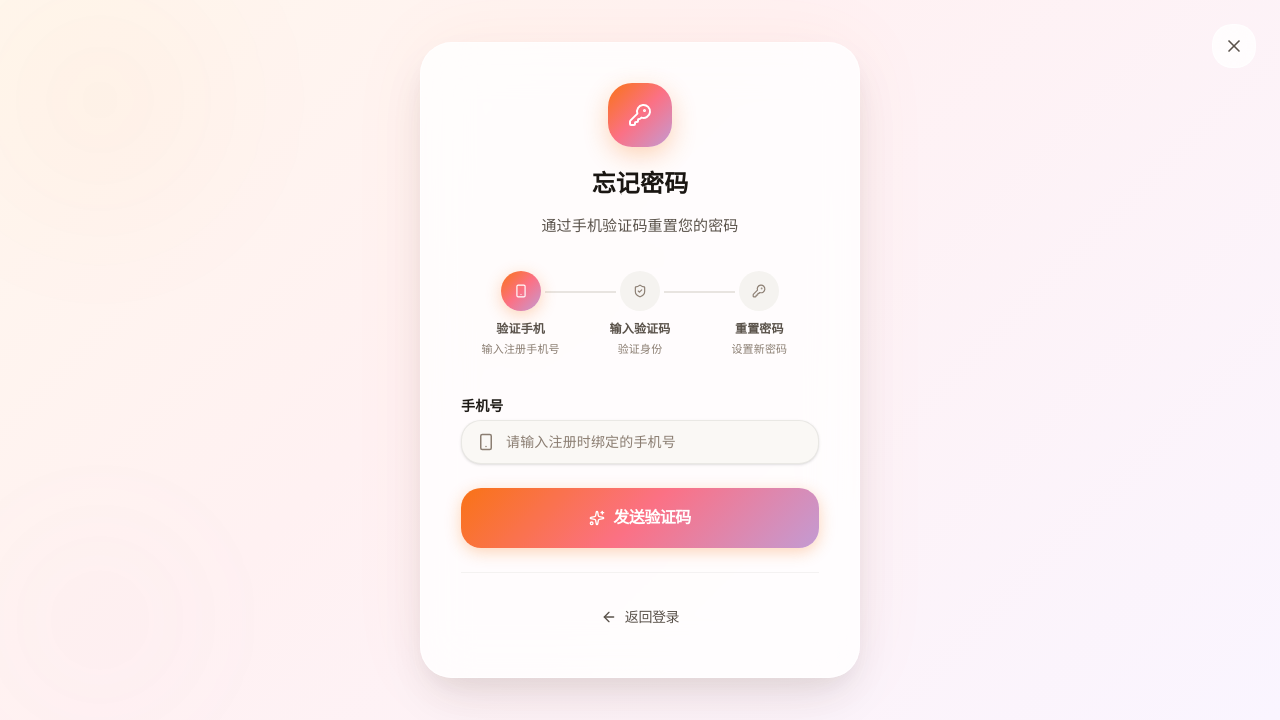
Test: ForgotPasswordPage › renders step 2 with verify code input and resend button
Type "13800138000" into the field with test id "input-forgot-phone" at (640, 442), box [461, 420, 819, 464]
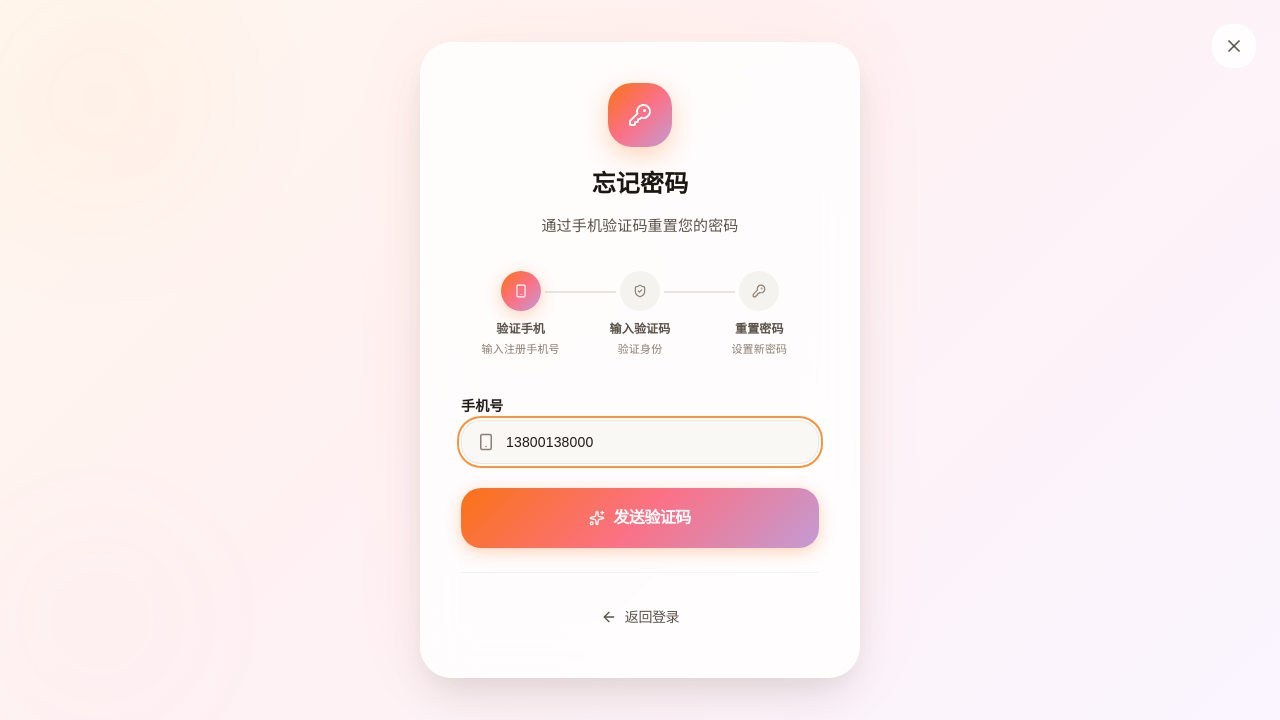
Click the button with test id "btn-send-code" at (640, 518), box [461, 488, 819, 548]
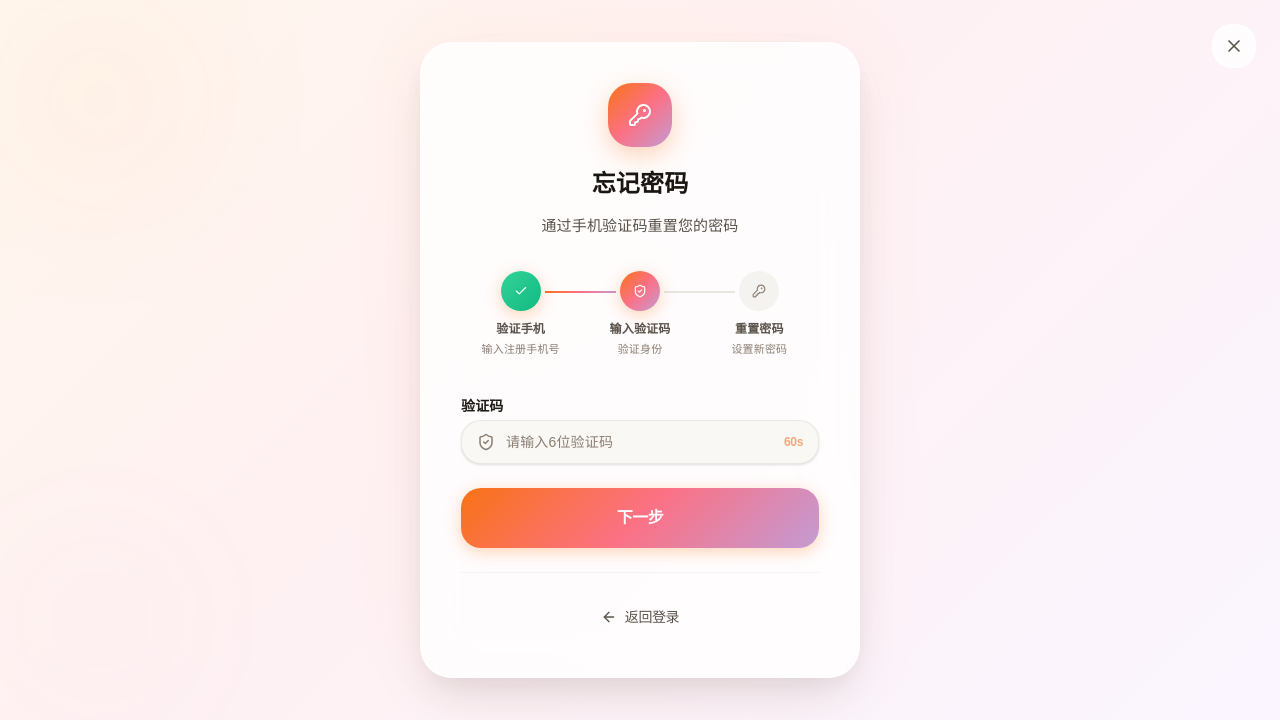
Check: the field with test id "input-verify-code" is shown, box [461, 420, 819, 464]
Check: the button "下一步" is shown, box [461, 488, 819, 548]
